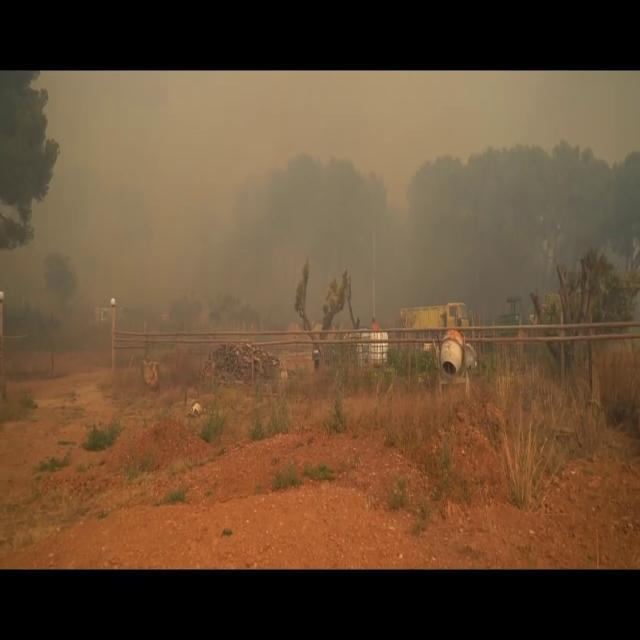Smoke: (0, 71, 543, 341)
